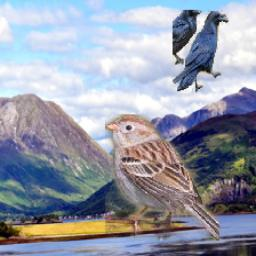Crow: (174, 11, 230, 93)
Sparrow: (105, 115, 219, 242)
